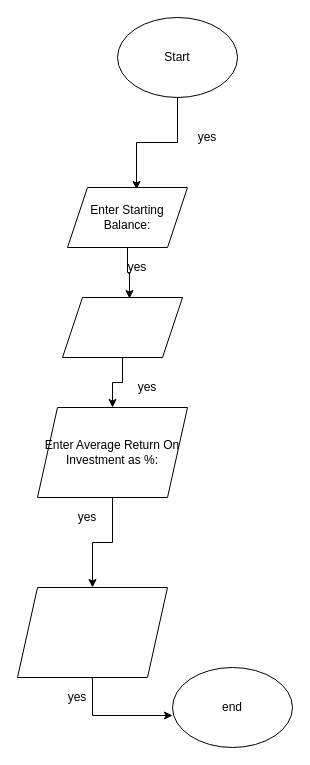
Image size: 310x765. Some labels were removed from this diagram. The centre of each missing label's shape, as x and y in pixels:
"Enter Number of years:" belongs at point (92, 632).
"Enter Yearly Contribution:" belongs at point (122, 327).
